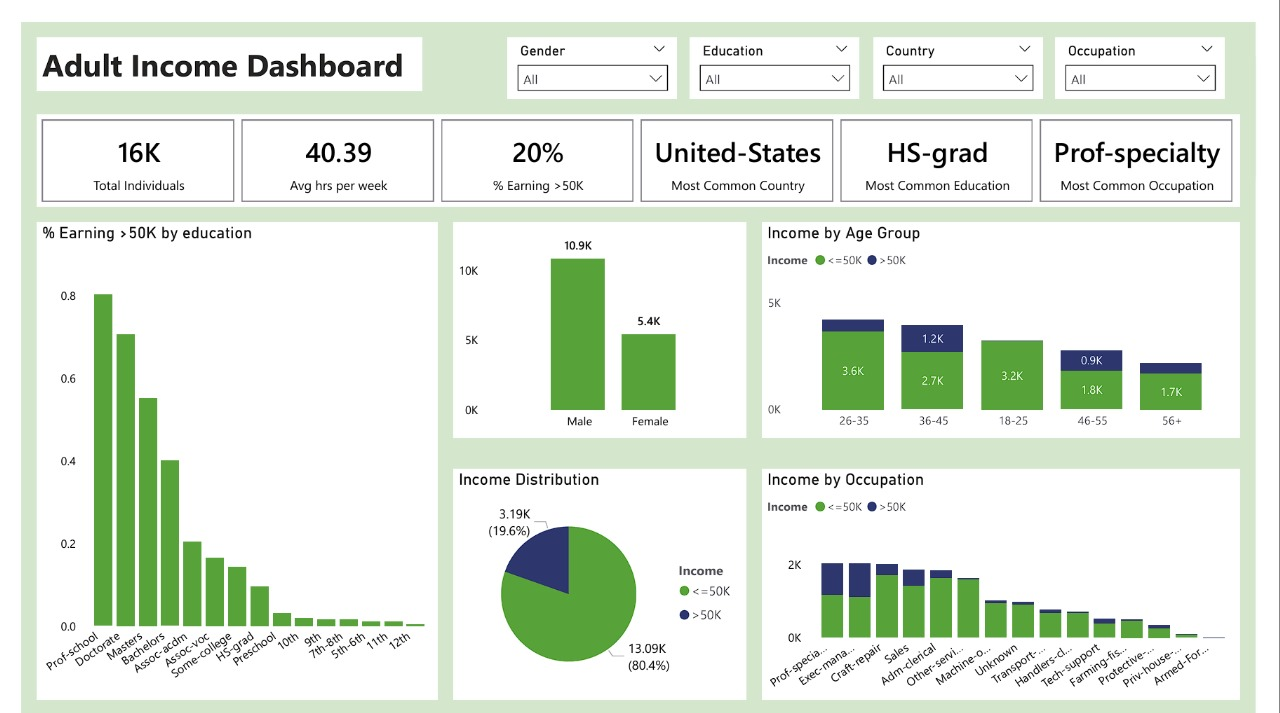

Layout of this report page (visuals, bound fields, positions):
{"tool":"powerbi","page":{"name":"Page 1","canvas":[1280,720],"ordinal":0},"visuals":[{"type":"cardVisual","fields":{"Data":["CountNonNull(predicted_income_results.age)","Avg(predicted_income_results.hours-per-week)","predicted_income_results.% Earning >50K","predicted_income_results.Most Common Country","predicted_income_results.Most Common Education","predicted_income_results.Most Common Occupation"]},"box":[16,96,1248,96],"z":0},{"type":"clusteredColumnChart","fields":{"Category":["predicted_income_results.sex"],"Y":["CountNonNull(predicted_income_results.sex)"]},"box":[448,208,304,224],"z":1000},{"type":"pieChart","title":"Income Distribution","fields":{"Category":["predicted_income_results.Predicted_Label"],"Y":["CountNonNull(predicted_income_results.Predicted_Label)"]},"box":[448,464,304,240],"z":2000},{"type":"columnChart","title":"Income by Age Group","fields":{"Category":["predicted_income_results.Age Group"],"Series":["predicted_income_results.Predicted_Label"],"Y":["CountNonNull(predicted_income_results.Predicted_Label)"]},"box":[768,208,496,224],"z":3000},{"type":"columnChart","title":"Income by Occupation","fields":{"Series":["predicted_income_results.Predicted_Label"],"Y":["CountNonNull(predicted_income_results.Predicted_Label)"],"Category":["predicted_income_results.occupation"]},"box":[768,464,496,240],"z":4000},{"type":"clusteredColumnChart","fields":{"Category":["predicted_income_results.education"],"Y":["predicted_income_results.% Earning >50K"]},"box":[16,208,416,496],"z":5000},{"type":"slicer","fields":{"Values":["predicted_income_results.sex"]},"box":[504.1,16,176,64],"z":5001},{"type":"slicer","fields":{"Values":["predicted_income_results.education"]},"box":[693.4,16,176,64],"z":5002},{"type":"slicer","fields":{"Values":["predicted_income_results.native-country"]},"box":[882.7,16,176,64],"z":5003},{"type":"slicer","fields":{"Values":["predicted_income_results.occupation"]},"box":[1072,16,176,64],"z":5004},{"type":"textbox","box":[16,16,400,56],"z":5005}]}

Visuals, with their boxes in screenshot pixels (x1, y1, x2, y2), scaled from the page's 1280x720 canvas onto the 1280x713 screenshot:
cardVisual - CountNonNull(predicted_income_results.age) x Avg(predicted_income_results.hours-per-week): [16, 95, 1264, 190]
clusteredColumnChart - predicted_income_results.sex x CountNonNull(predicted_income_results.sex): [448, 206, 752, 428]
"Income Distribution" pieChart: [448, 459, 752, 697]
"Income by Age Group" columnChart: [768, 206, 1264, 428]
"Income by Occupation" columnChart: [768, 459, 1264, 697]
clusteredColumnChart - predicted_income_results.education x predicted_income_results.% Earning >50K: [16, 206, 432, 697]
slicer - predicted_income_results.sex: [504, 16, 680, 79]
slicer - predicted_income_results.education: [693, 16, 869, 79]
slicer - predicted_income_results.native-country: [883, 16, 1059, 79]
slicer - predicted_income_results.occupation: [1072, 16, 1248, 79]
textbox: [16, 16, 416, 71]
